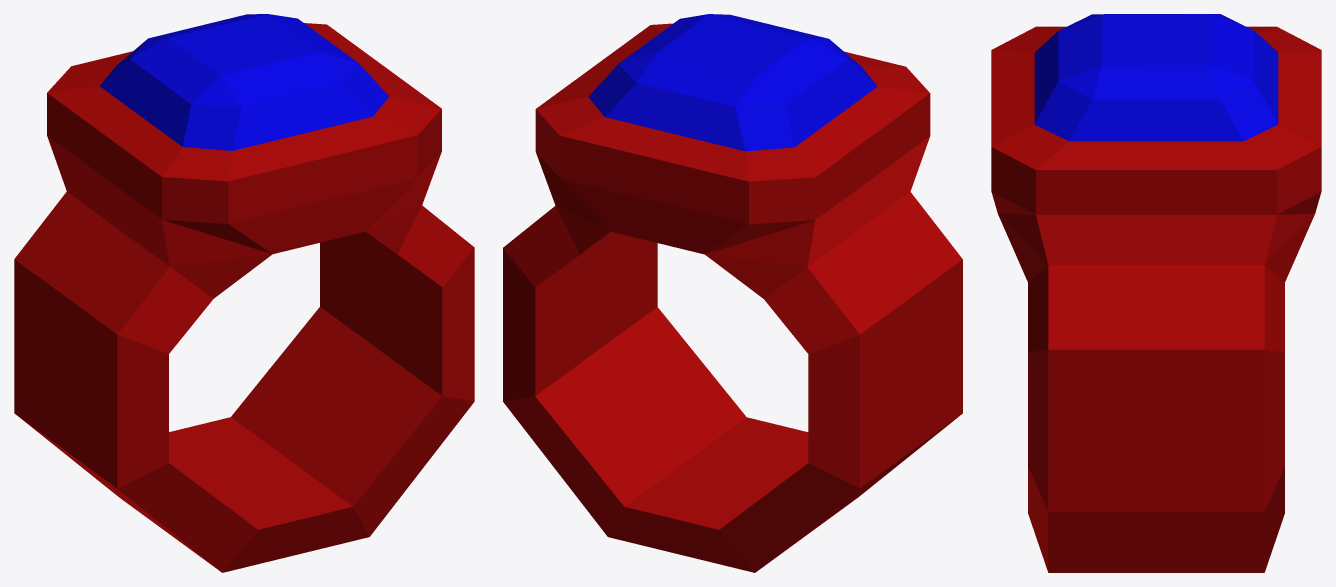
File: Ring_08.fbx
3 renders of one model, left to right at view 1: azimuth 30°, elevation 25°; view 2: azimuth 150°, elevation 25°; view 3: azimuth 270°, elevation 25°, orthographic. The views are drawn at different scales.
Parts seen in each view (by area): view 1: SM_Item_Ring_08; view 2: SM_Item_Ring_08; view 3: SM_Item_Ring_08.
Boxes of the visible parts, x1=… form: SM_Item_Ring_08: x1=14, y1=14, x2=474, y2=572; SM_Item_Ring_08: x1=503, y1=14, x2=962, y2=572; SM_Item_Ring_08: x1=991, y1=14, x2=1321, y2=572.
Size of the model in its own units: 5.07 by 6.41 by 3.87.
